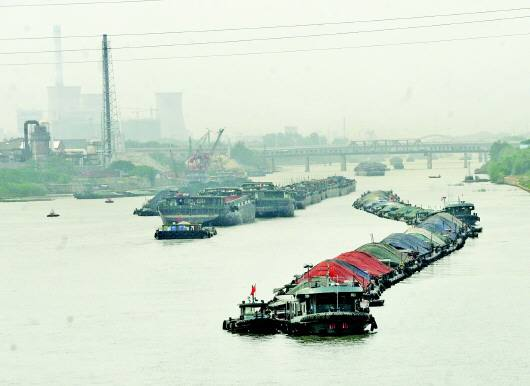boat: (254, 263, 381, 328), (153, 189, 261, 237), (73, 181, 152, 201)
